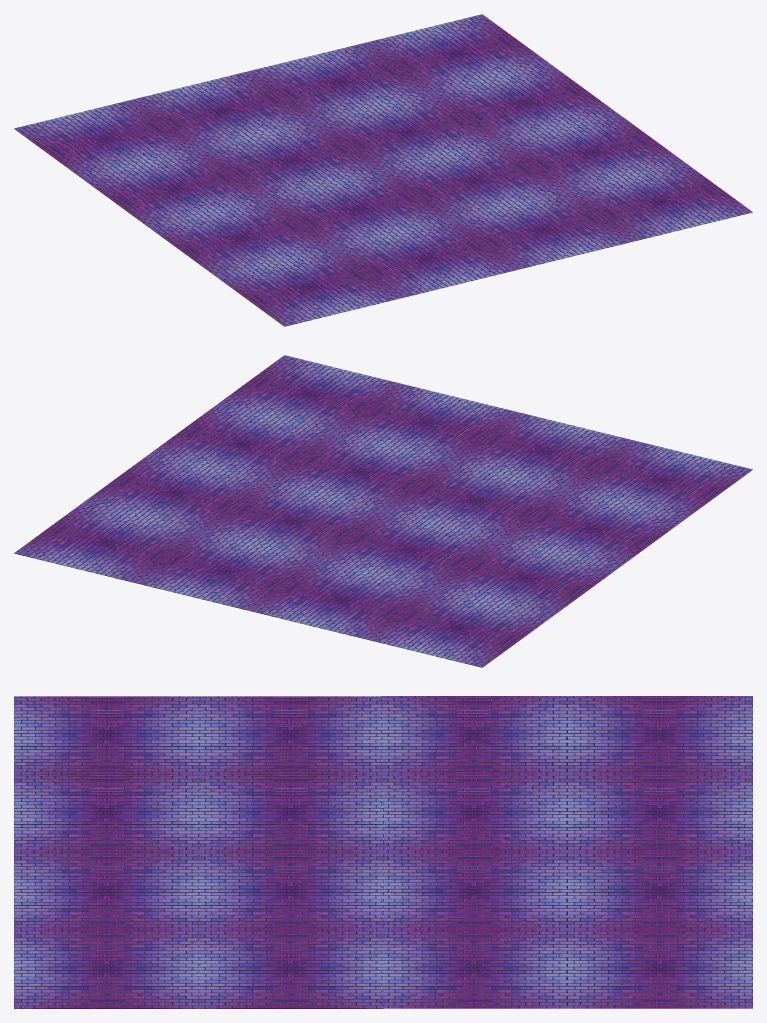
File: ground.glb
3 renders of one model, top to bottom at view 1: azimuth 30°, elevation 25°; view 2: azimuth 150°, elevation 25°; view 3: azimuth 270°, elevation 25°, orthographic. The views are drawn at different scales.
Parts seen in each view (by area): view 1: ground; view 2: ground; view 3: ground.
Boxes of the visible parts, x1,y1,x2,y2 form: ground: (14, 14, 752, 326); ground: (14, 355, 752, 667); ground: (14, 696, 752, 1008).
Bounding box in the file's own units: 16 × 0.01 × 16.
Materials: 1 (1 with a texture image).
